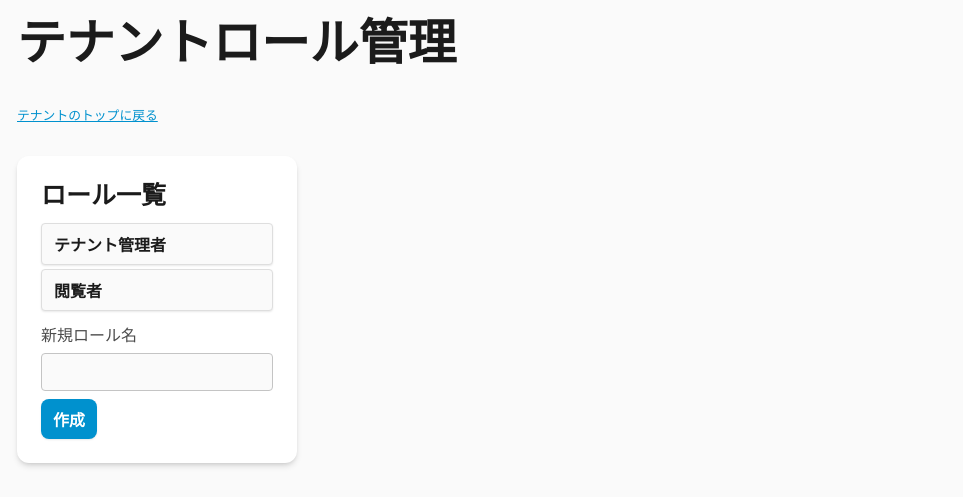
Scenario: tenant roles page › 既定のテナント管理者ロールは削除・権限保存の操作を表示しない
Click the button "テナント管理者": {"x": 157, "y": 244} x1=41 y1=223 x2=273 y2=265
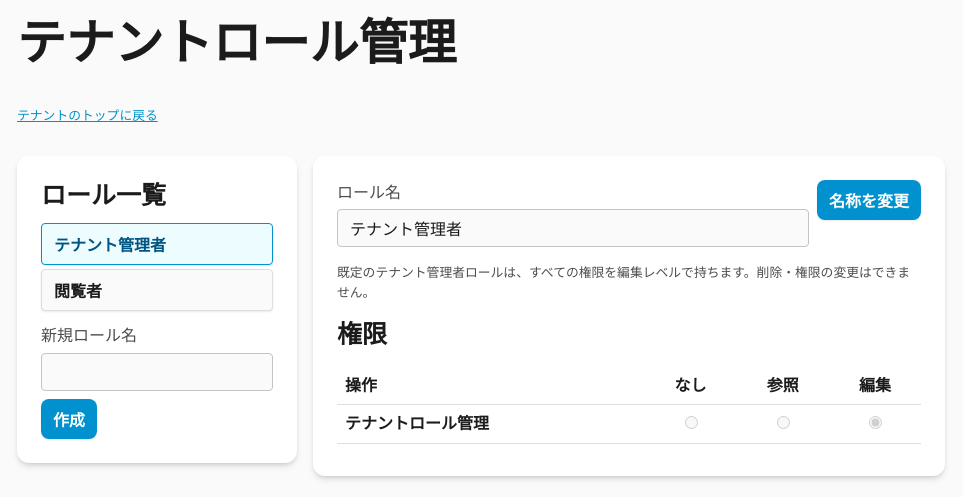
Check: the text "既定のテナント管理者ロールは、すべての権限を編集レベルで持ちます。削除・権限の変更はできません。" is shown, box x1=337 y1=263 x2=921 y2=303
